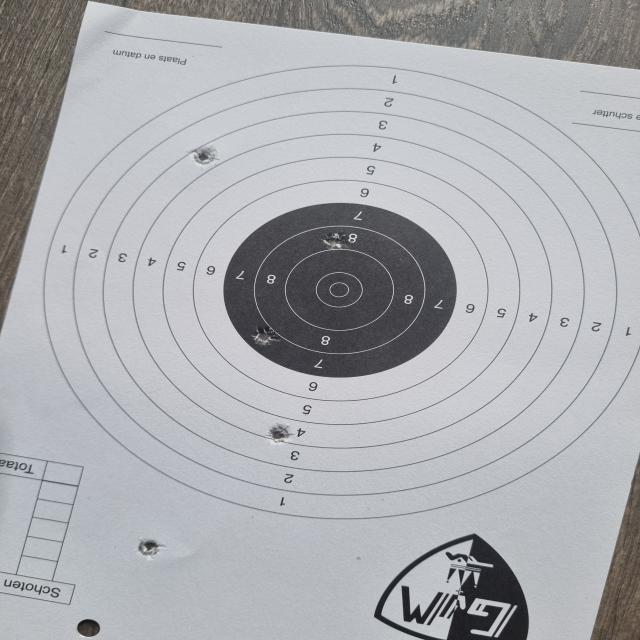0: (134, 538, 164, 560)
3: (188, 144, 217, 167)
4: (264, 423, 294, 444)
8: (249, 325, 279, 345), (320, 232, 349, 249)
Target: (42, 64, 640, 519)
black_contour: (222, 202, 457, 378)
